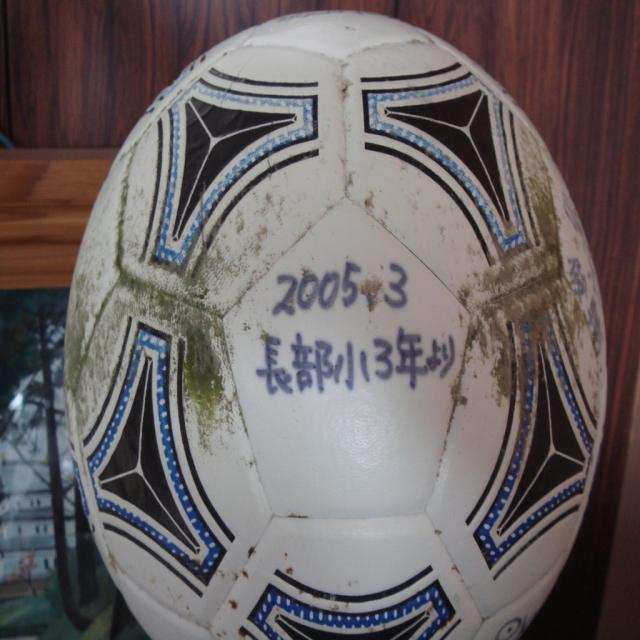football: (67, 0, 598, 635)
